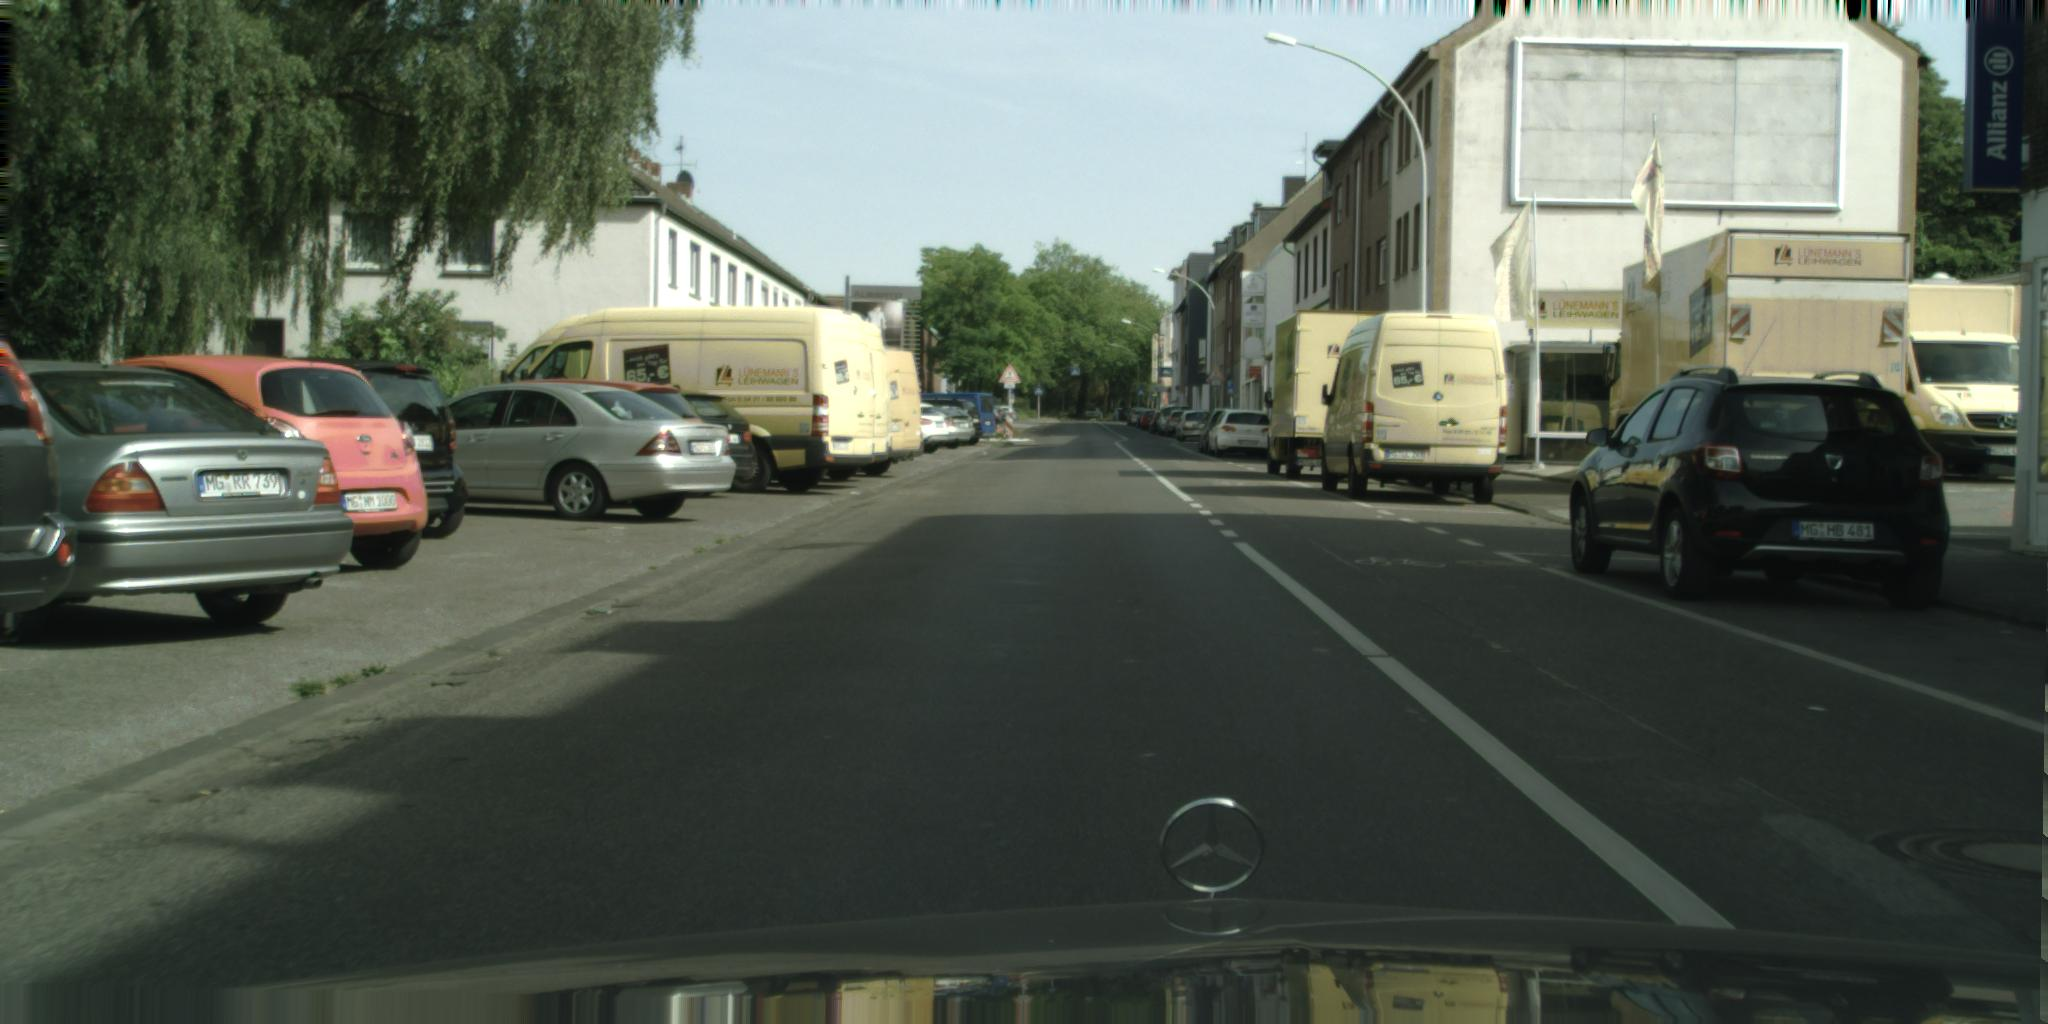car: (1571, 366, 1951, 613), (9, 359, 355, 626), (488, 315, 891, 490), (111, 357, 428, 571), (521, 308, 876, 494), (435, 383, 738, 522), (1322, 313, 1509, 505), (281, 358, 469, 539), (1, 333, 78, 647), (811, 350, 926, 482), (513, 380, 703, 432), (665, 391, 755, 499), (903, 394, 997, 435), (1208, 409, 1279, 458), (914, 398, 985, 447), (918, 405, 977, 451), (1199, 409, 1238, 455), (916, 404, 950, 455)
truck: (1605, 229, 1912, 453), (1880, 283, 2021, 481), (1266, 311, 1412, 481)
